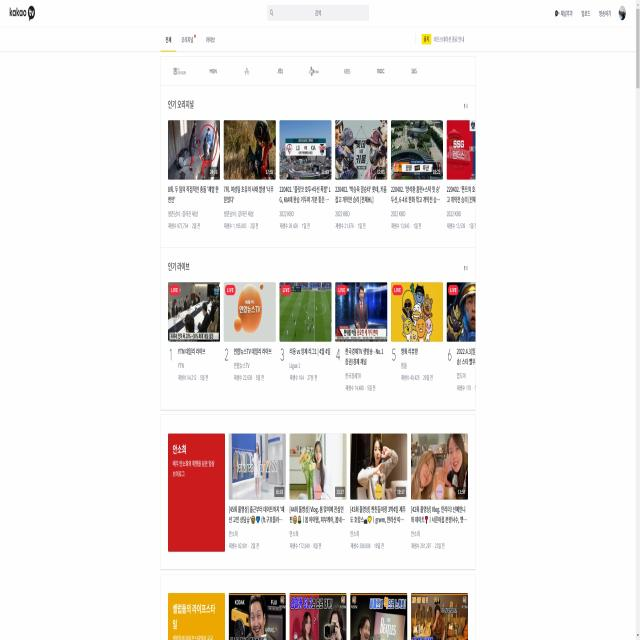menu-bar: (551, 2, 626, 23)
search: (266, 2, 371, 24)
tab-bar: (162, 57, 422, 80), (159, 29, 217, 52)
